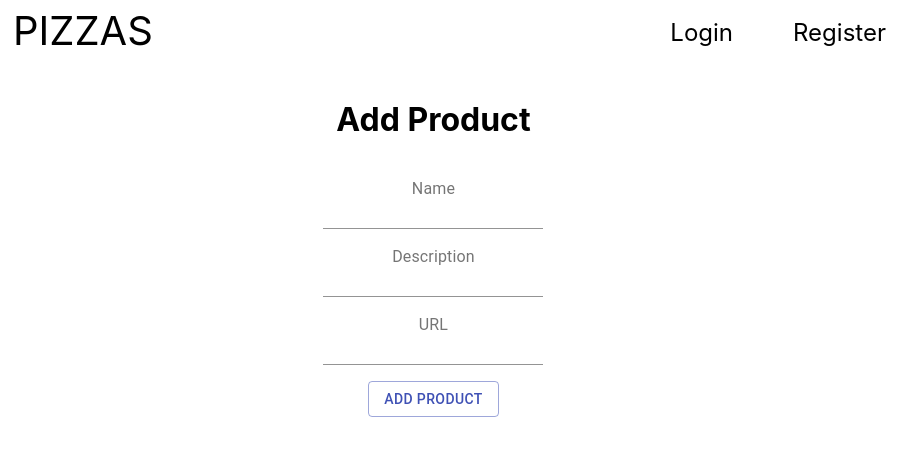
Tests main functionalities › test add product with invalid url
The image size is (903, 476).
Type "Example Product" into the field labelled "Name" at (434, 213), box [324,197,544,229]
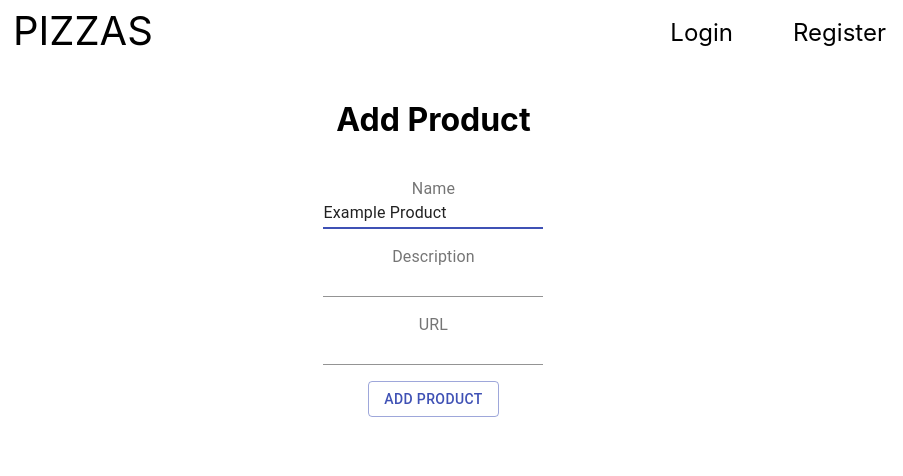
Type "Example ProductExample ProductExample ProductExample ProductExample Product" into the field labelled "Description" at (434, 281), box [324,265,544,297]
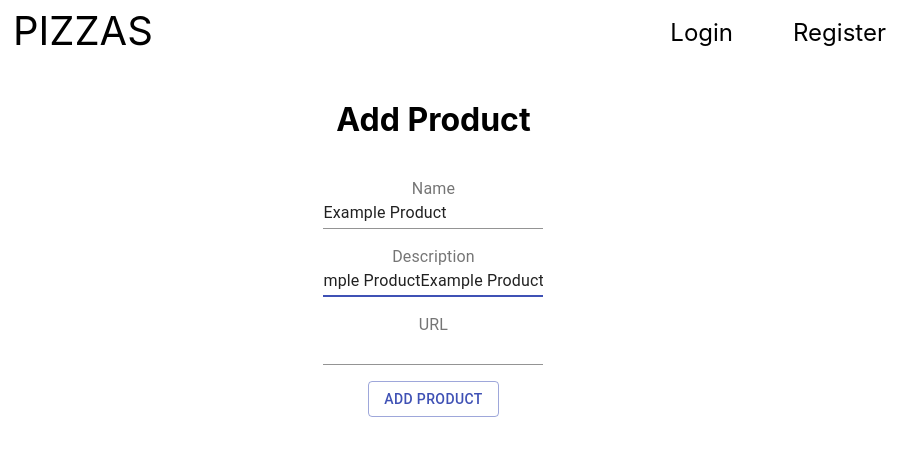
Type "pizza.png" into the field labelled "URL" at (434, 349), box [324,333,544,365]
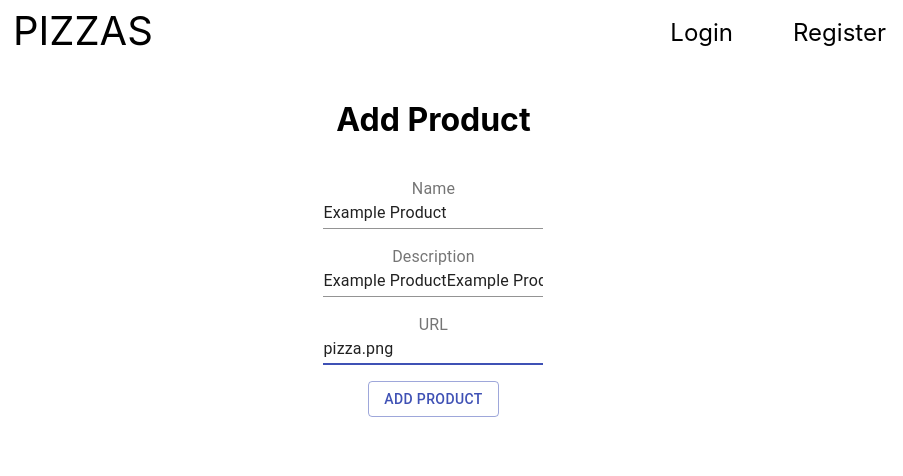
Submit the form, box [324,179,544,418]
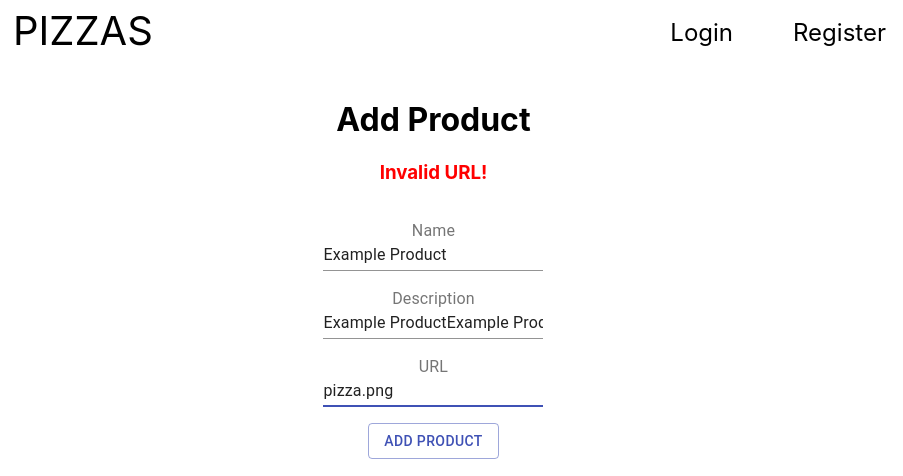
Now the heading "Invalid URL!" is shown, box [380,161,487,184]
